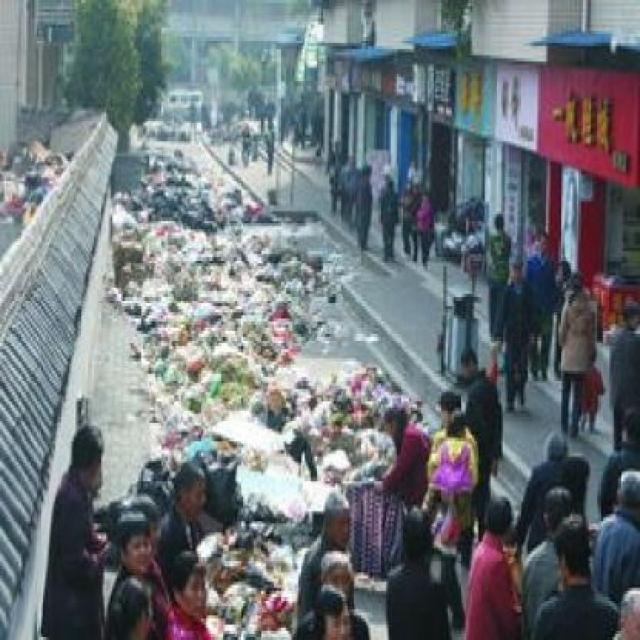garbage: (131, 154, 414, 408), (217, 411, 301, 638), (0, 126, 63, 206)
